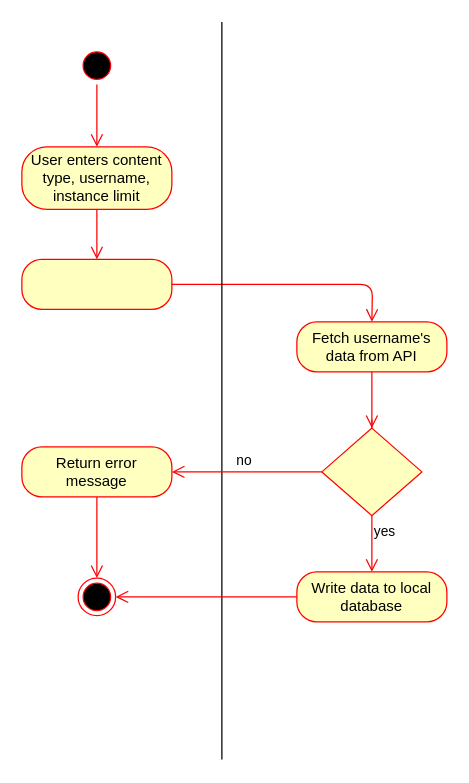
This 469x783 diagram has some shape labels left out. The shapes that lost their labels are listed below. From the top down, each one's centre as x and y in pixels, then its label:
(x=96, y=283): User clicks "Fetch"
(x=371, y=471): Data available
